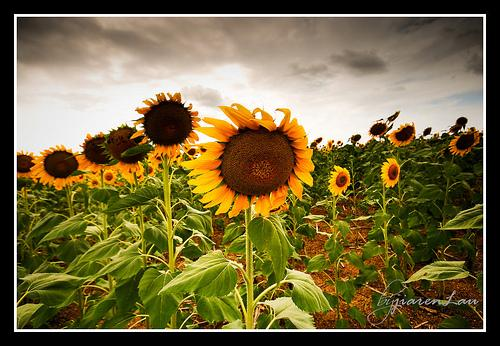sunflower: (184, 102, 314, 218), (133, 92, 200, 158), (31, 143, 81, 189), (448, 128, 480, 153), (328, 165, 351, 195), (388, 122, 417, 144), (379, 158, 399, 187)
